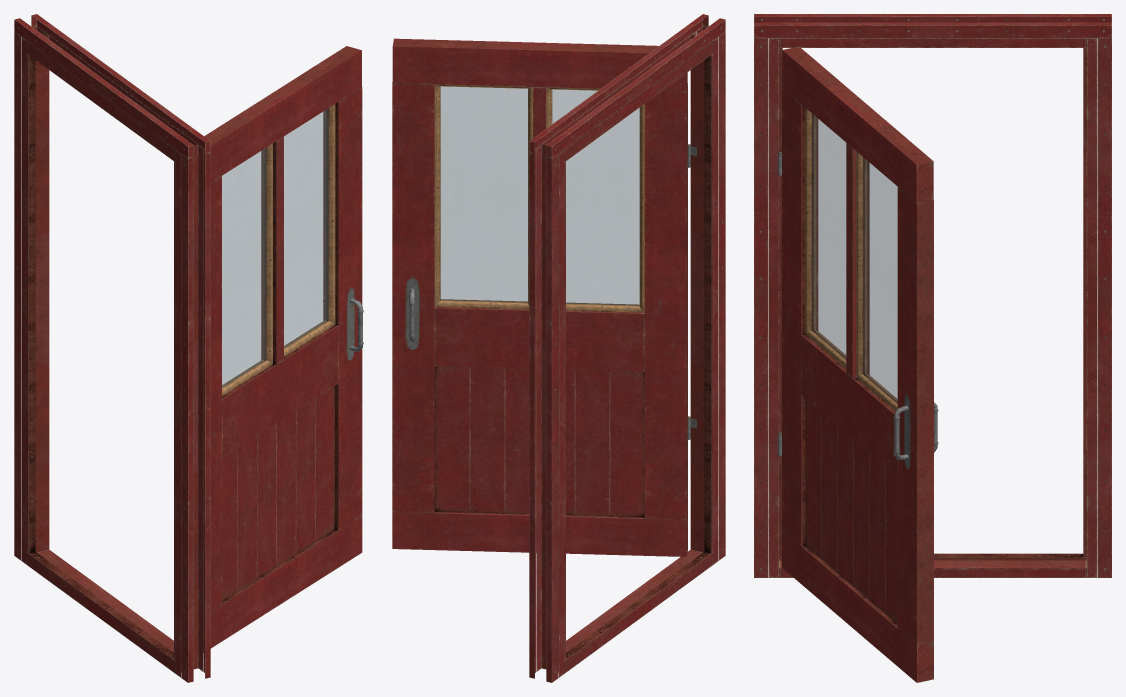
File: door.glb
The picture shows the model from 3 angles, left to right: view 1: azimuth 30°, elevation 25°; view 2: azimuth 150°, elevation 25°; view 3: azimuth 270°, elevation 25°; orthographic projection. The views are drawn at different scales.
Parts seen in each view (by area): view 1: Object_4, Object_3; view 2: Object_4, Object_3, Object_2; view 3: Object_4, Object_3.
Part boxes in pixels (box(x1,y1,x2,y2)): Object_4: box(14, 14, 363, 682); Object_3: box(222, 109, 327, 387); Object_4: box(392, 14, 725, 682); Object_3: box(441, 86, 639, 305); Object_2: box(405, 278, 419, 349); Object_4: box(754, 14, 1111, 682); Object_3: box(812, 114, 897, 402).
Size of the model in its own units: 5.14 by 10.41 by 6.11.
3 materials, 3 textured.
